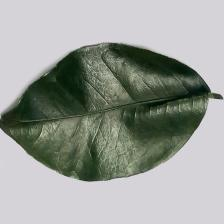healthy: (9, 48, 185, 158)
